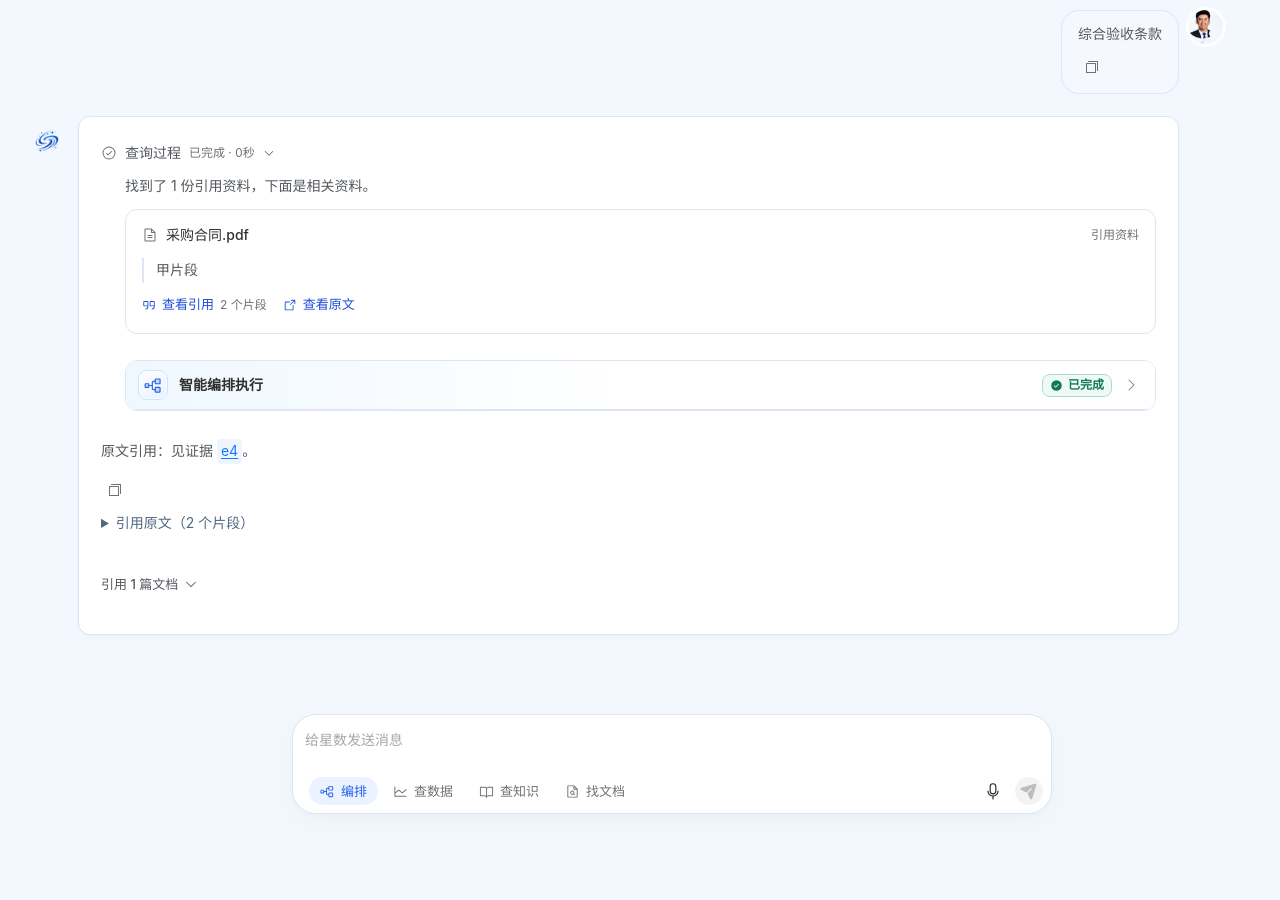
Test: analysis response phases › preserves conflicting evidence ids from two child queries of the same document
The image size is (1280, 900).
Click the button named "e4：查看本轮引用文档（暂未提供准确位置）".
click(230, 451)  # box [217, 439, 242, 464]
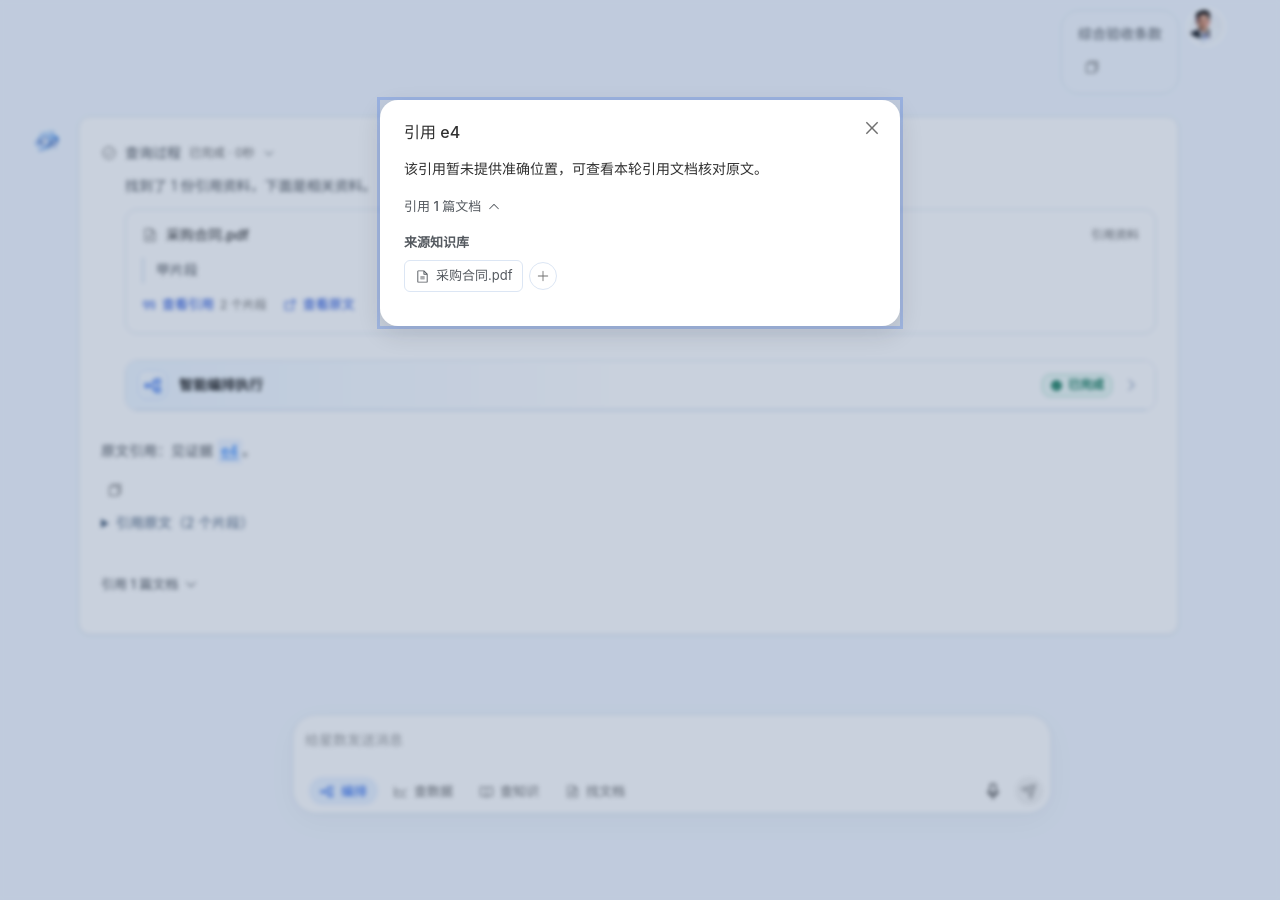
Expected: the dialog shows "暂未提供准确位置", [404, 160, 768, 177]
